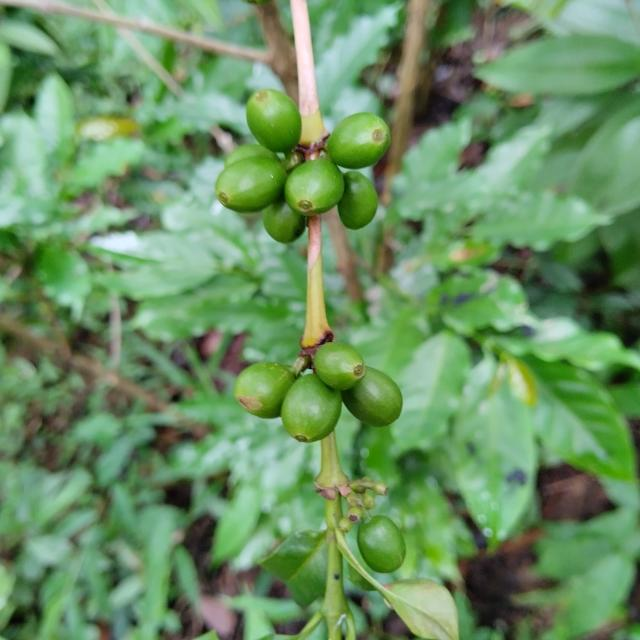green: (281, 374, 342, 443), (215, 156, 287, 212), (342, 366, 403, 427), (327, 112, 391, 168), (284, 158, 345, 215), (234, 362, 295, 419), (246, 89, 301, 152), (358, 516, 406, 574), (314, 342, 366, 391), (338, 170, 378, 229), (262, 199, 306, 243), (224, 144, 280, 168)
